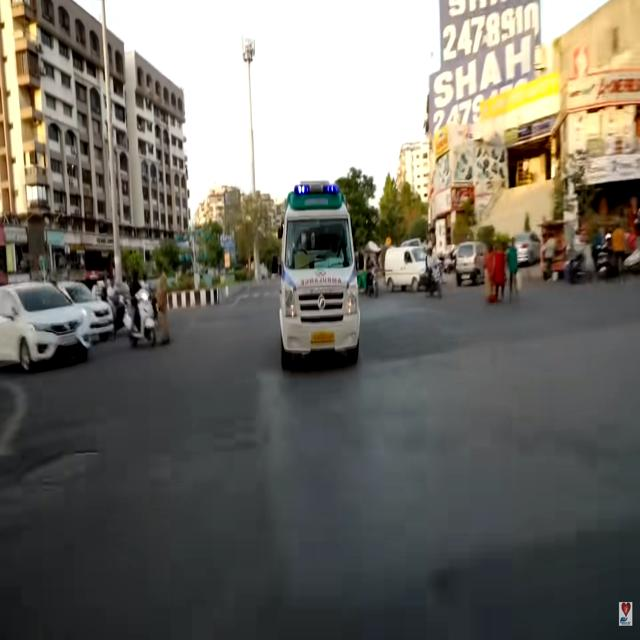emergency-vehicles: (245, 171, 382, 394)
